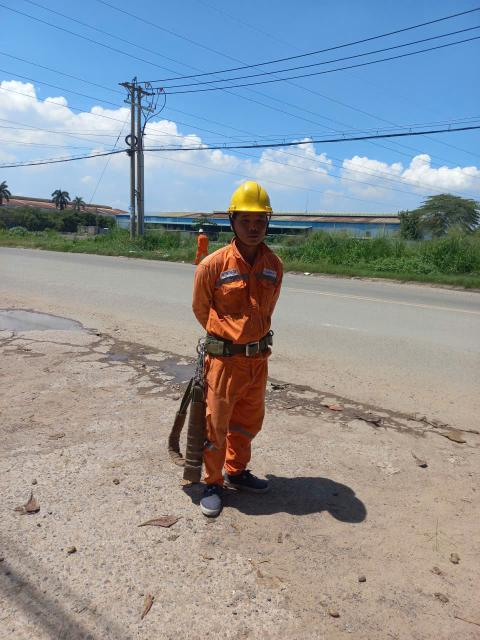harness: (196, 322, 288, 368)
helmet: (228, 183, 277, 222)
shoes: (228, 460, 272, 497), (198, 481, 228, 521)
